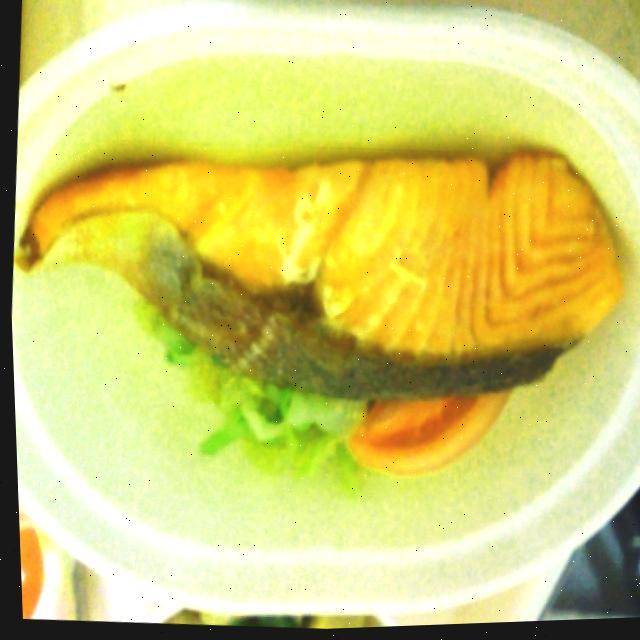熟制海鲜: (4, 105, 622, 438)
